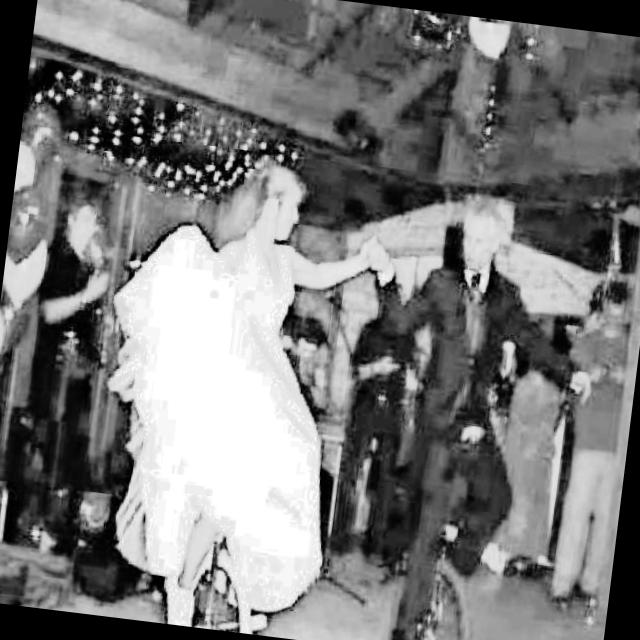Person: (316, 174, 611, 640), (153, 147, 391, 640), (27, 187, 124, 402)
